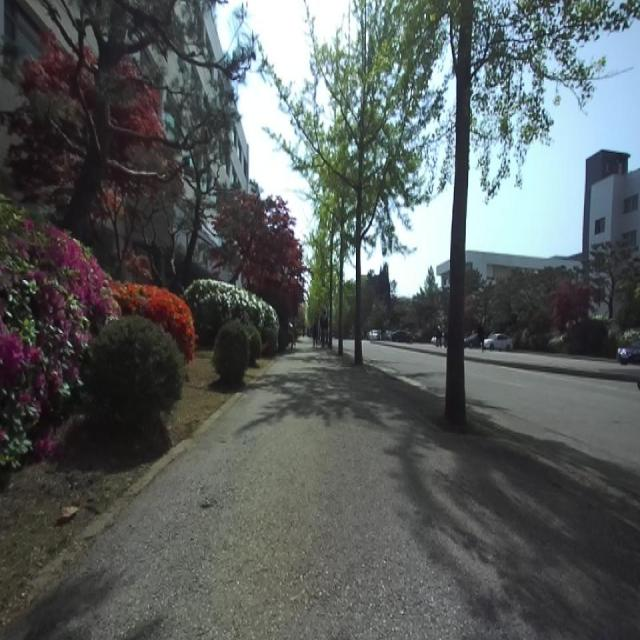sidewalk: (12, 342, 640, 638)
